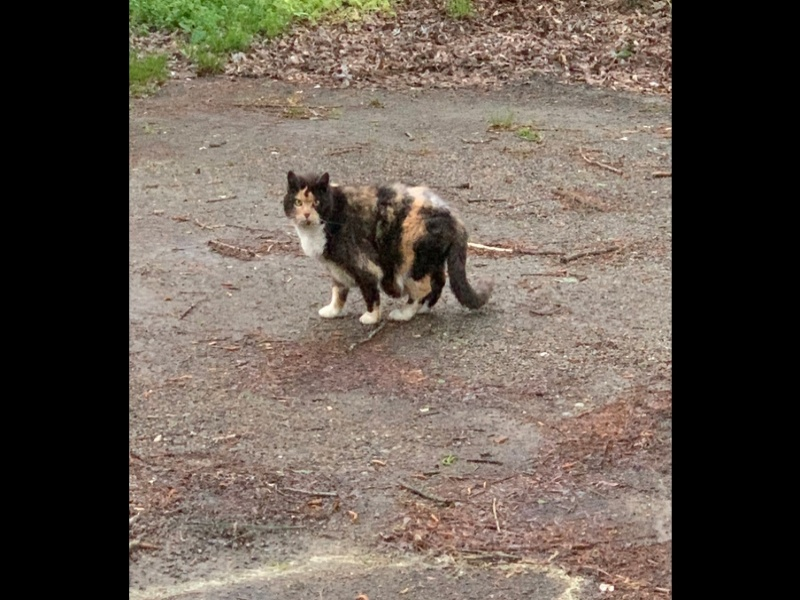cat: (278, 168, 496, 329)
